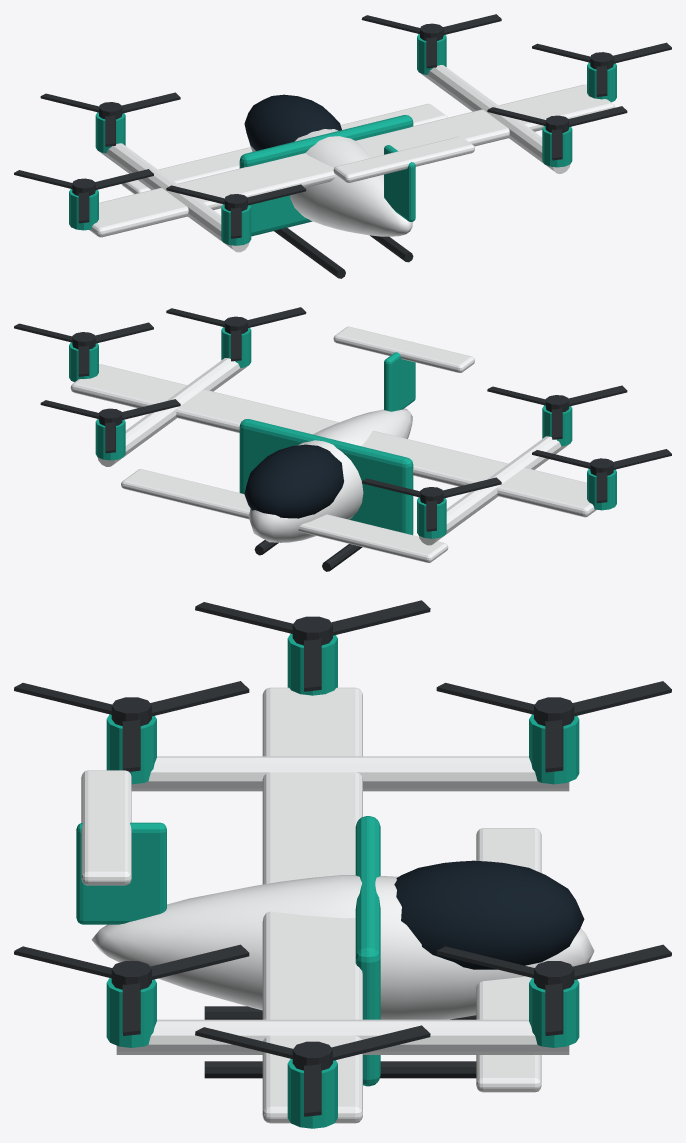
File: evtol.glb
The picture shows the model from 3 angles, top to bottom: view 1: azimuth 30°, elevation 25°; view 2: azimuth 150°, elevation 25°; view 3: azimuth 270°, elevation 25°; orthographic projection. The views are drawn at different scales.
Parts seen in each view (by area): view 1: wing, fuselage, stripe, canopy, canard, tailplane, boom.001, boom, rotor_4, rotor_5, rotor_2, rotor_0 (+11 smaller); view 2: wing, stripe, canard, canopy, fuselage, tailplane, boom.001, boom, tailfin, rotor_5, rotor_4, rotor_0 (+10 smaller); view 3: wing, fuselage, canopy, boom, boom.001, canard, tailfin, tailplane, stripe, rotor_0, rotor_1, rotor_3 (+11 smaller).
Part boxes in pixels (x1,y1,x2,y2): wing: [89, 84, 614, 237]; fuselage: [249, 129, 412, 236]; stripe: [239, 115, 413, 236]; canopy: [244, 94, 341, 150]; canard: [121, 103, 447, 193]; tailplane: [333, 136, 474, 182]; boom.001: [420, 65, 570, 173]; boom: [99, 143, 248, 252]; rotor_4: [14, 169, 153, 223]; rotor_5: [532, 42, 671, 96]; rotor_2: [166, 184, 306, 238]; rotor_0: [40, 92, 180, 146]; wing: [70, 364, 596, 517]; stripe: [239, 419, 413, 534]; canard: [121, 469, 448, 562]; canopy: [244, 444, 343, 518]; fuselage: [248, 408, 412, 542]; tailplane: [333, 326, 474, 372]; boom.001: [97, 358, 247, 466]; boom: [419, 436, 568, 545]; tailfin: [384, 352, 415, 411]; rotor_5: [14, 322, 153, 376]; rotor_4: [532, 449, 671, 503]; rotor_0: [362, 477, 501, 531]; wing: [262, 687, 362, 1123]; fuselage: [91, 875, 594, 1019]; canopy: [394, 860, 584, 969]; boom: [131, 756, 569, 791]; boom.001: [116, 1019, 569, 1054]; canard: [476, 828, 541, 1092]; tailfin: [76, 822, 166, 924]; tailplane: [81, 770, 131, 885]; stripe: [355, 816, 380, 1086]; rotor_0: [436, 681, 671, 772]; rotor_1: [436, 944, 671, 1035]; rotor_3: [14, 944, 249, 1035].
Bounding box in the file's own units: 2.41 × 0.503 × 1.31.
